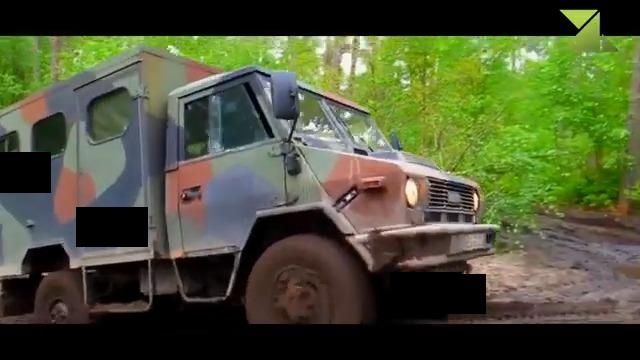MIL_HMMWV: (0, 48, 499, 324)
